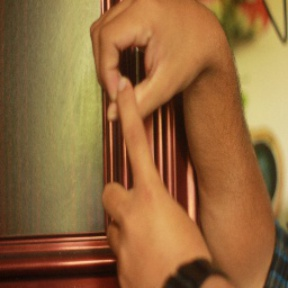Q: (87, 1, 233, 268)
